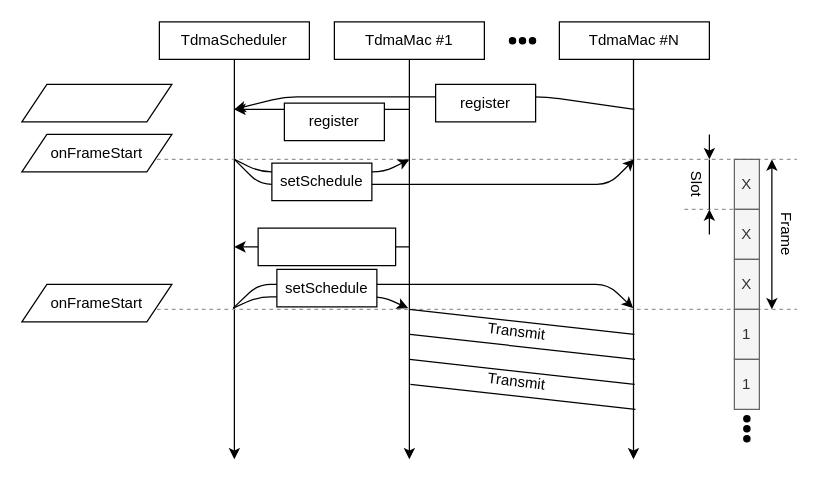
The diagram is 821 pixels wide and 491 high, and some of its shapes have lost their labels. Here are the shapes that lost their labels. From the top down, the centre of each, then its label:
(x=96, y=102): Initialize
(x=326, y=246): reportBufferStatus
